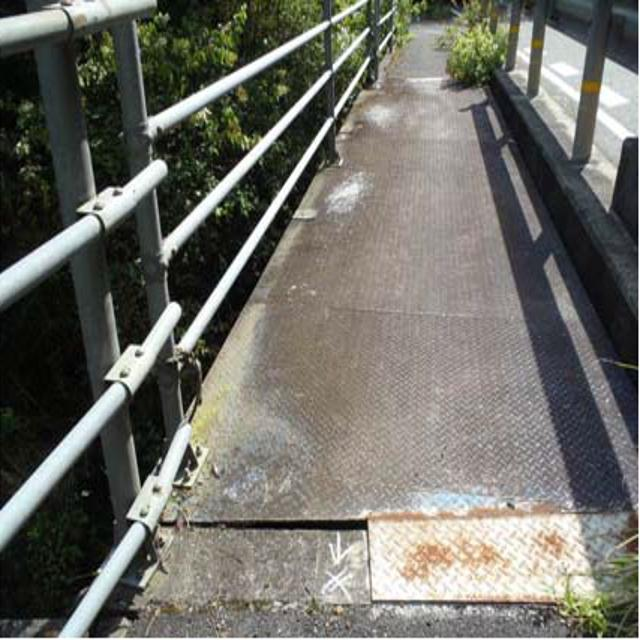freelime: (328, 166, 382, 231)
